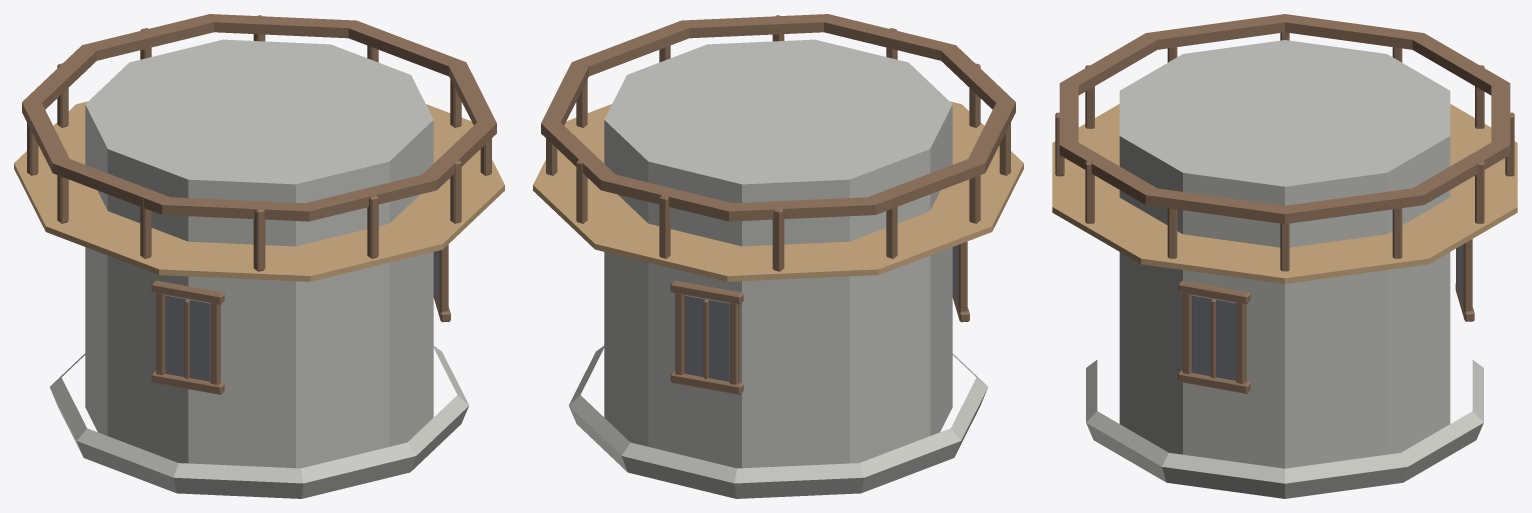
Rendered from wizard-tower-mid.glb.
3 renders of one model, left to right at view 1: azimuth 30°, elevation 25°; view 2: azimuth 150°, elevation 25°; view 3: azimuth 270°, elevation 25°, orthographic.
Visible parts, largest first — view 1: wizard-tower-mid; view 2: wizard-tower-mid; view 3: wizard-tower-mid.
Boxes of the visible parts, x1,y1,x2,y2 form: wizard-tower-mid: (14,14,504,498); wizard-tower-mid: (533,14,1023,498); wizard-tower-mid: (1052,14,1517,498).
Bounding box in the file's own units: 6.2 × 4.2 × 5.9.
